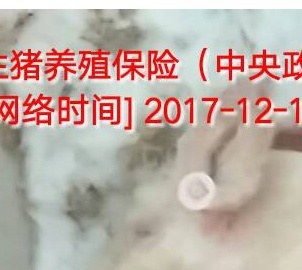text: (167, 156, 233, 215)
